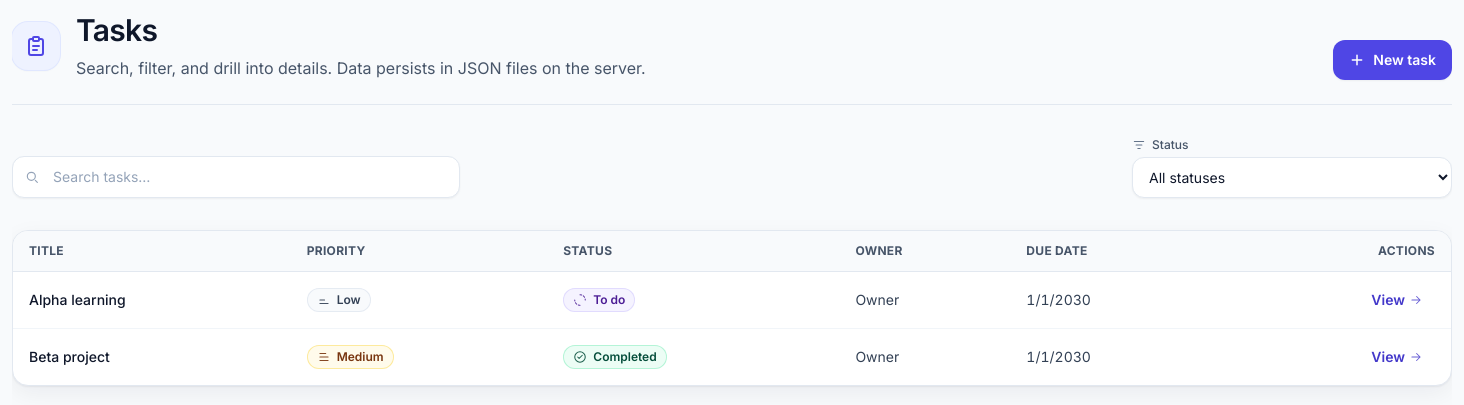
Scenario: TaskListPage › supports search and status filtering
Expected: the link "Alpha learning" is shown, [29,291,126,308]
Expected: the link "Beta project" is shown, [29,348,110,365]
Type "Beta" into the search field at point(236, 177), box [12,156,460,198]
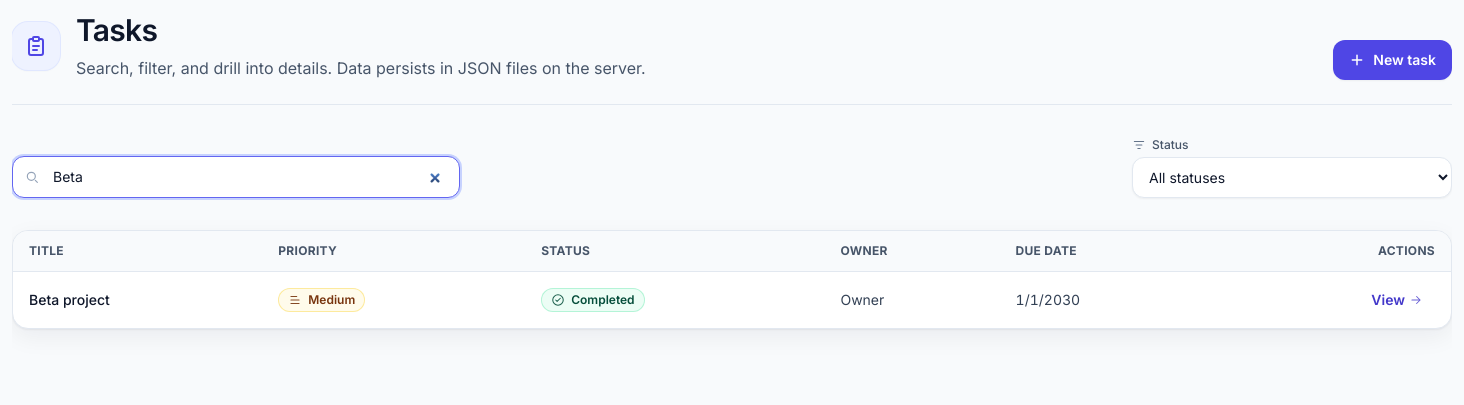
Expected: the link "Beta project" is shown, [29,291,110,308]
Result: the link "Alpha learning" is gone
Clear the search field at point(236, 177), box [12,156,460,198]
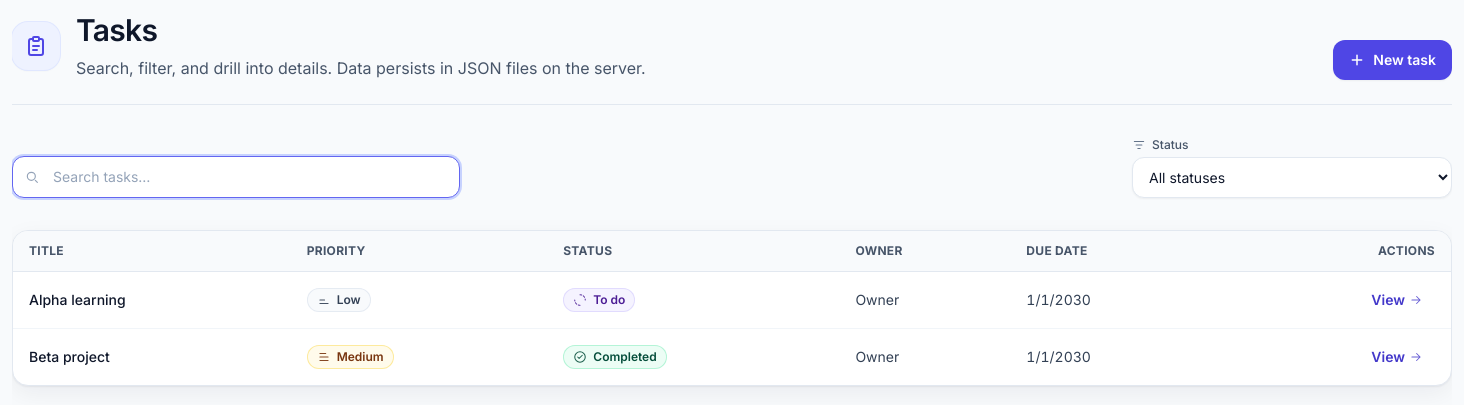
Select "Completed" in the dropdown labelled "Status" at point(1292, 178), box [1132,157,1452,198]
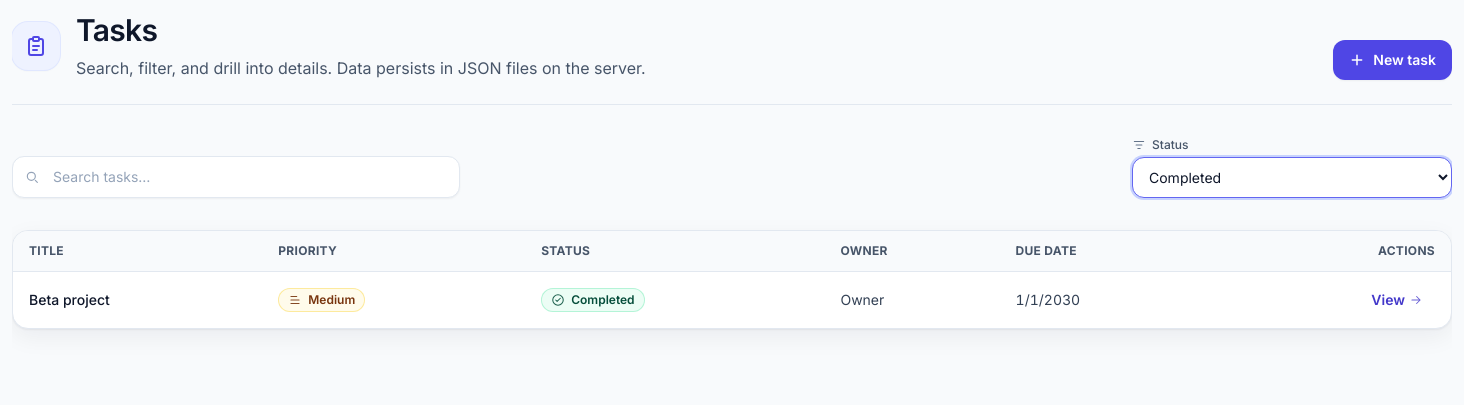
Expected: the link "Beta project" is shown, [29,291,110,308]
Result: the link "Alpha learning" is gone
